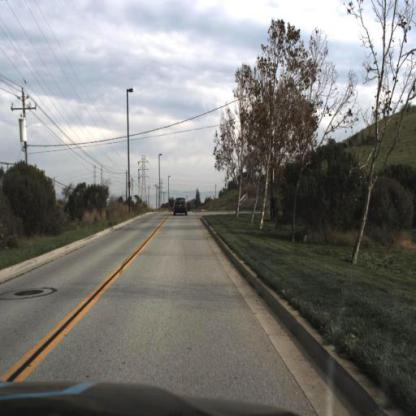car: (173, 193, 189, 220)
